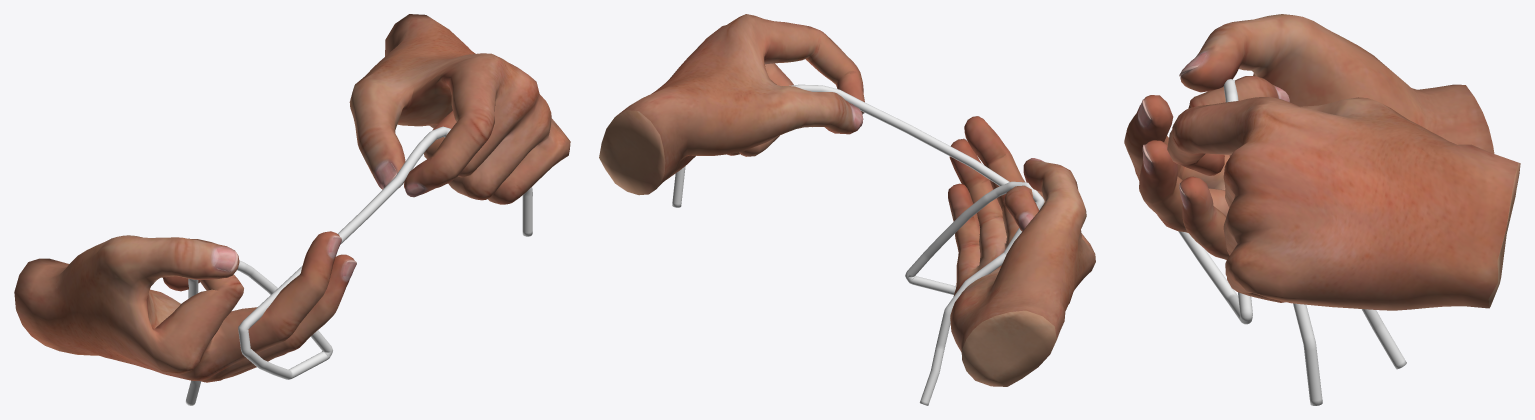
The model's file is mfk_part2_assi_position.fbx.
3 views of the same model, side by side, from view 1: azimuth 30°, elevation 25°; view 2: azimuth 150°, elevation 25°; view 3: azimuth 270°, elevation 25° (orthographic). The views are drawn at different scales.
Visible parts, largest first — view 1: Hand_R, Hand_L, faden_L, faden_R; view 2: Hand_L, Hand_R, faden_R, faden_L; view 3: Hand_L, Hand_R, faden_R, faden_L.
Boxes of the visible parts, bbox=[...] form: Hand_R: bbox=[14, 231, 356, 382]; Hand_L: bbox=[349, 14, 570, 204]; faden_L: bbox=[238, 126, 532, 371]; faden_R: bbox=[185, 260, 332, 405]; Hand_L: bbox=[599, 14, 864, 195]; Hand_R: bbox=[948, 116, 1095, 386]; faden_R: bbox=[905, 181, 1044, 405]; faden_L: bbox=[672, 84, 1009, 207]; Hand_L: bbox=[1167, 97, 1520, 310]; Hand_R: bbox=[1124, 14, 1494, 260]; faden_R: bbox=[1184, 79, 1406, 369]; faden_L: bbox=[1178, 231, 1322, 405].
Bounding box in the file's own units: 33.23 × 21.58 × 18.63.
